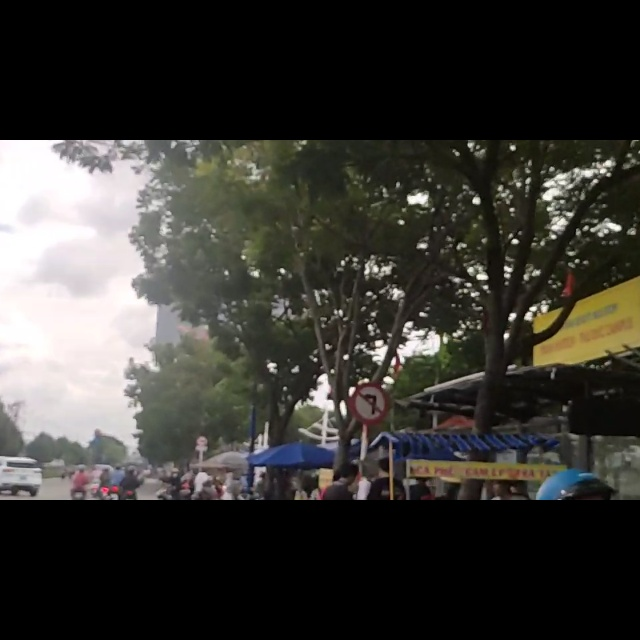bien_hieu_lenh: (352, 435, 387, 504)
